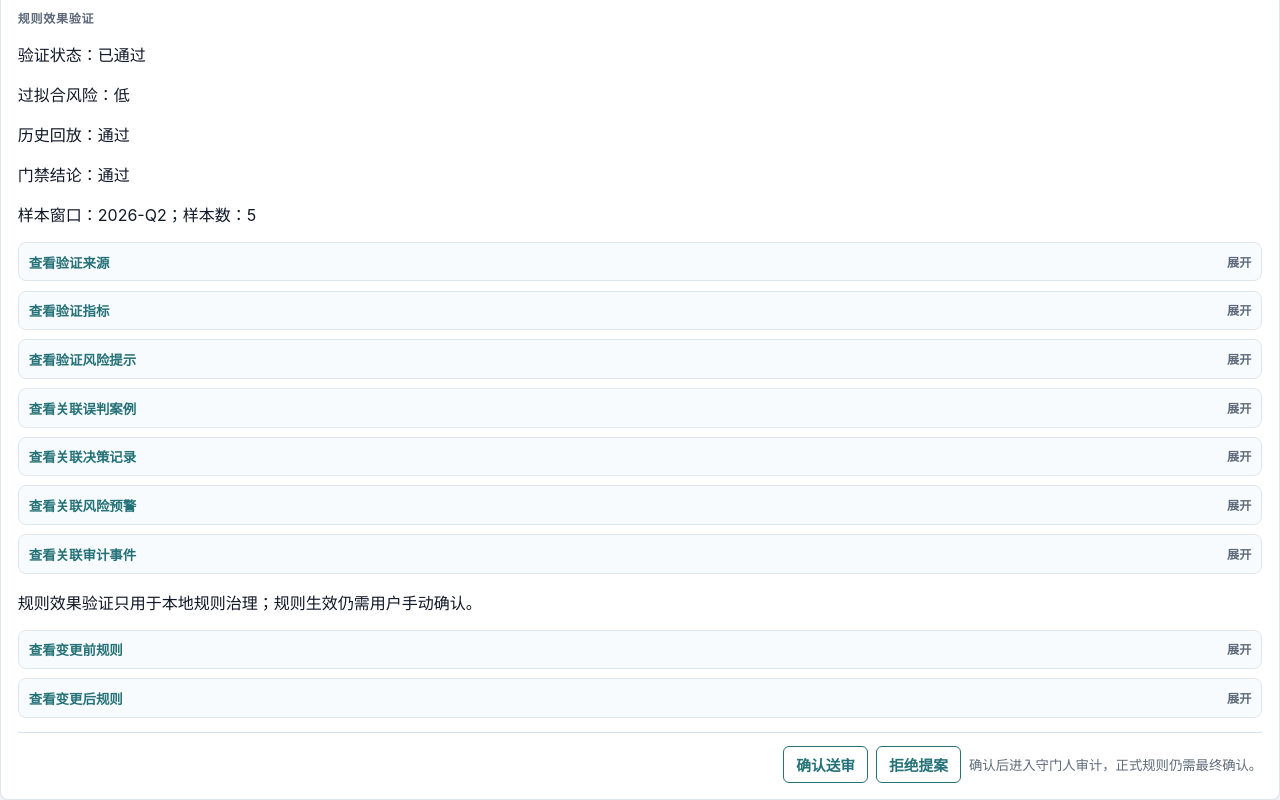
Scenario: RulesPage › supports user confirmation before gatekeeper audit
(page scrolled)
Click the button "确认送审".
click(826, 764)  # box left=783, top=746, right=868, bottom=783
(page scrolled)
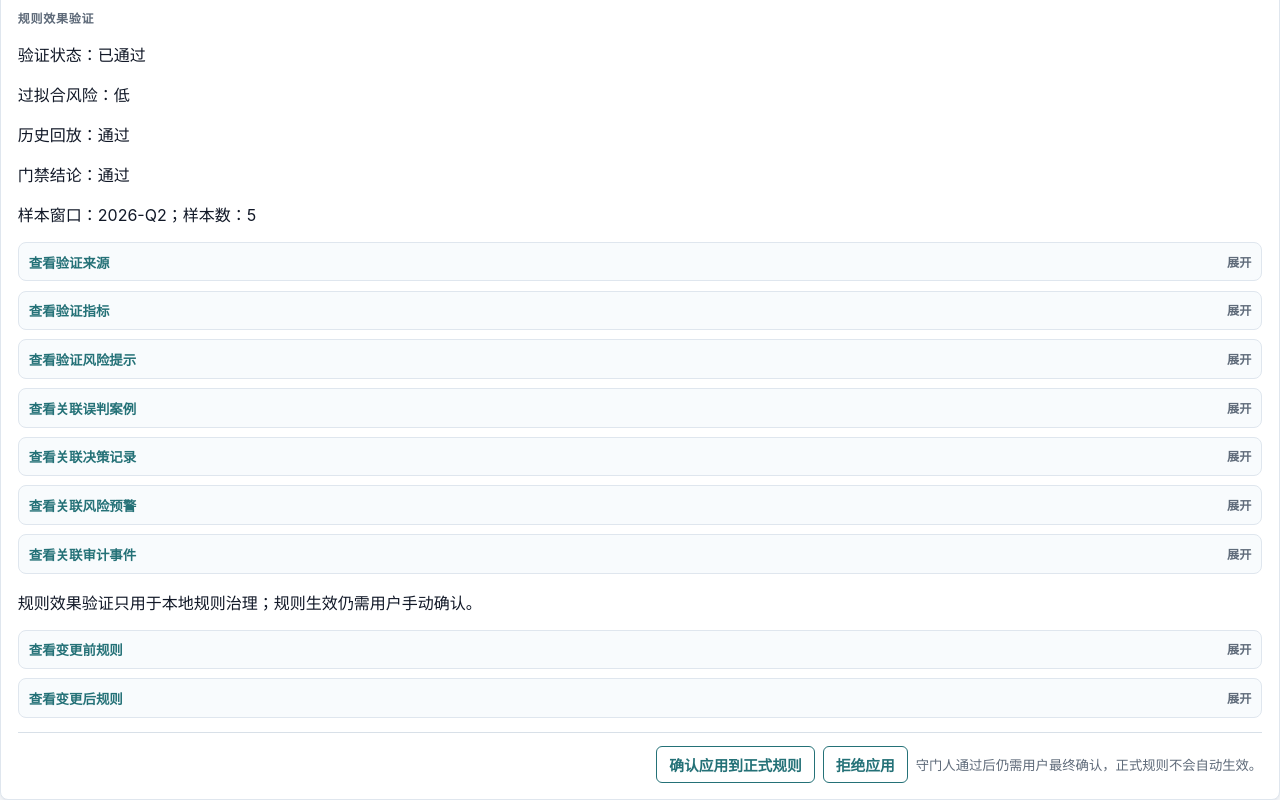
Now the button "确认应用到正式规则" is shown, box left=656, top=746, right=815, bottom=783
